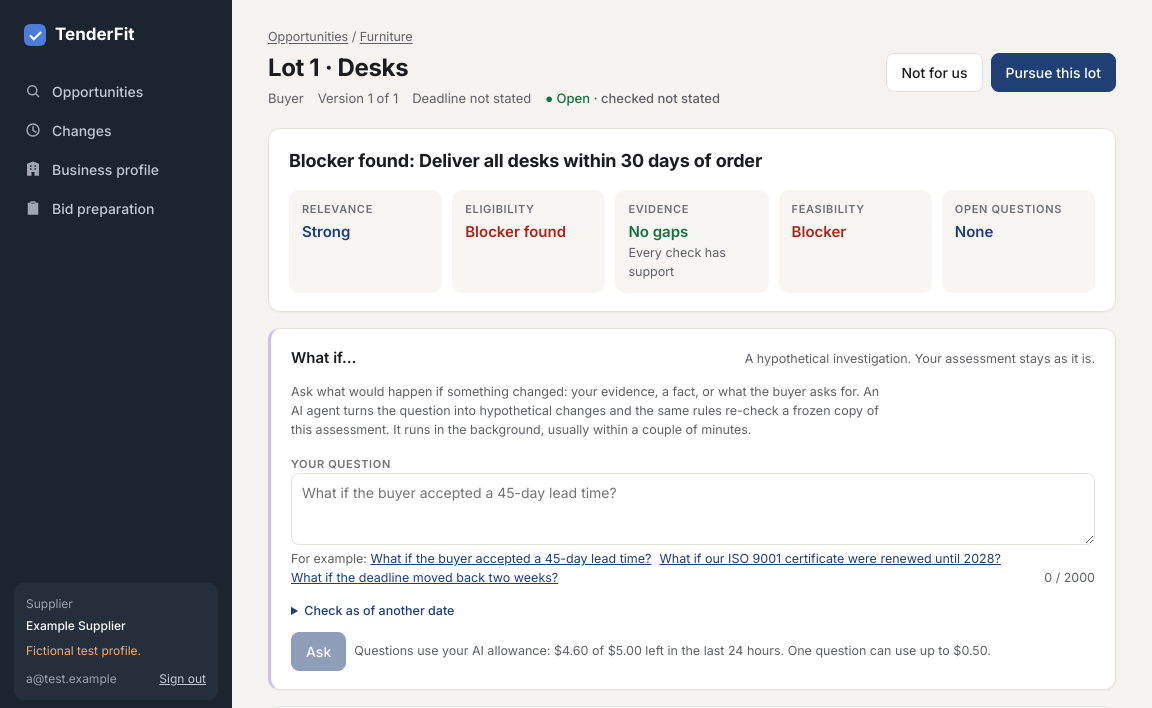
Test case: asking a what-if question › a session that ended returns to sign-in
Type "What if the buyer accepted our 45-day lead time?" into the text box labelled "Your question" at (693, 509), box 291,473 -> 1095,545
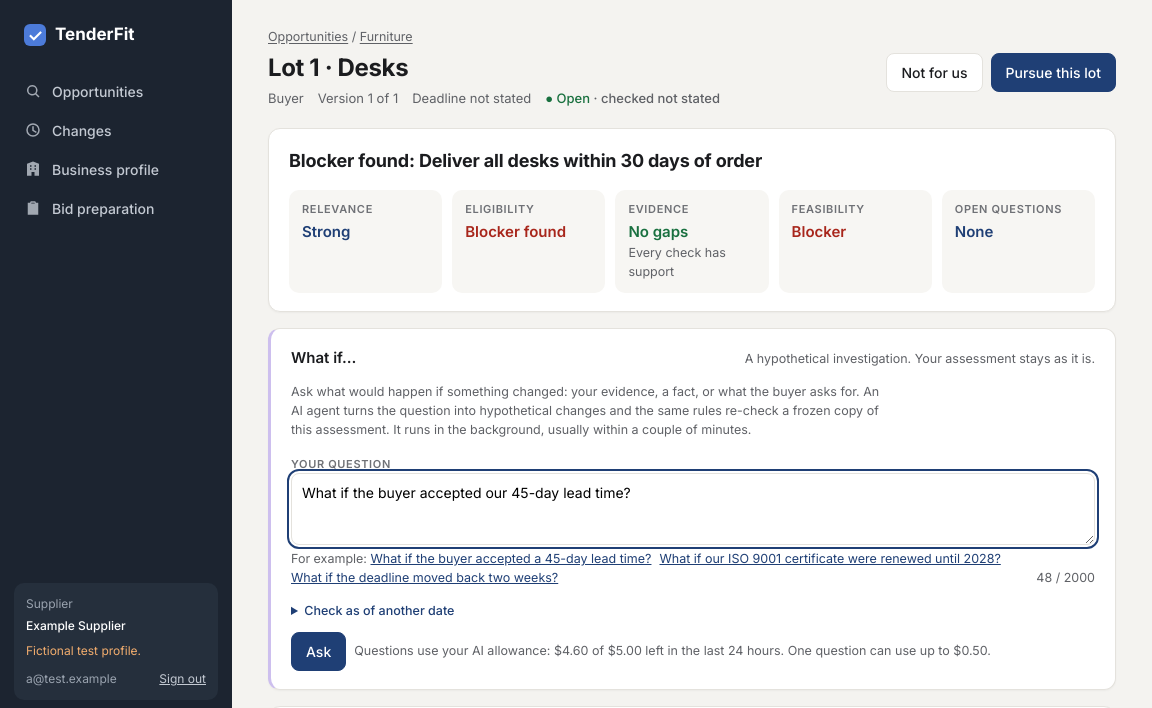
Click the button "Ask" at (319, 652), box 291,632 -> 346,671
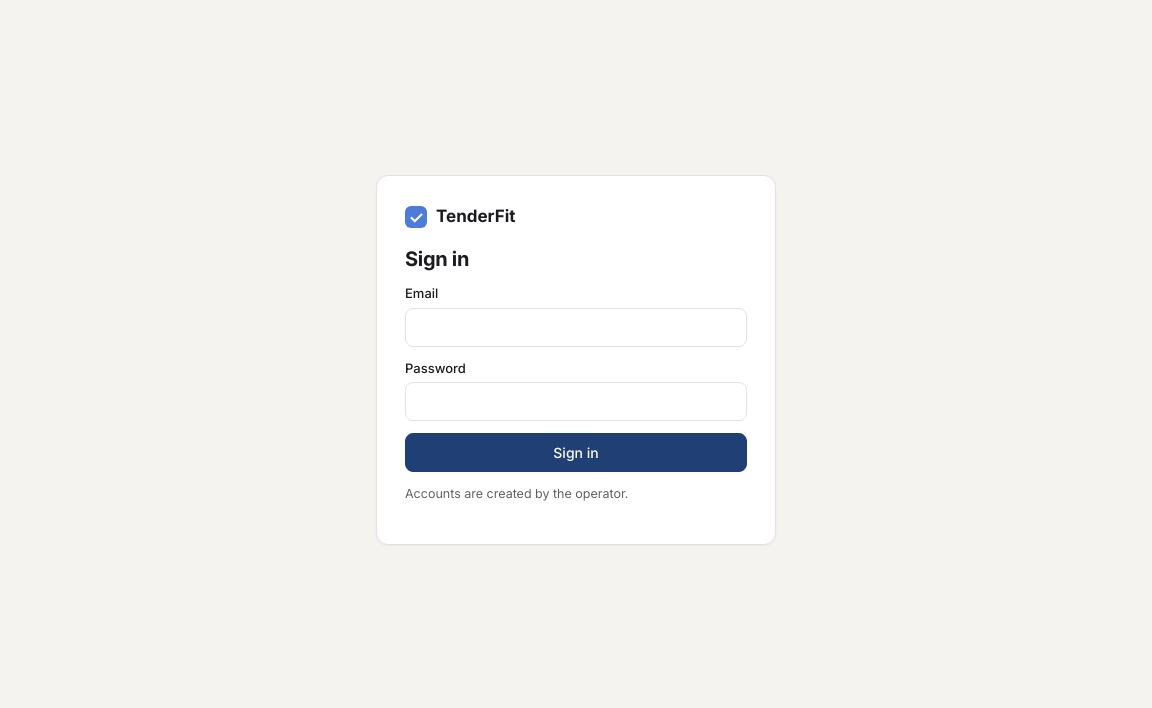
Expected: the heading "Sign in" is shown, 405,247 -> 469,271
